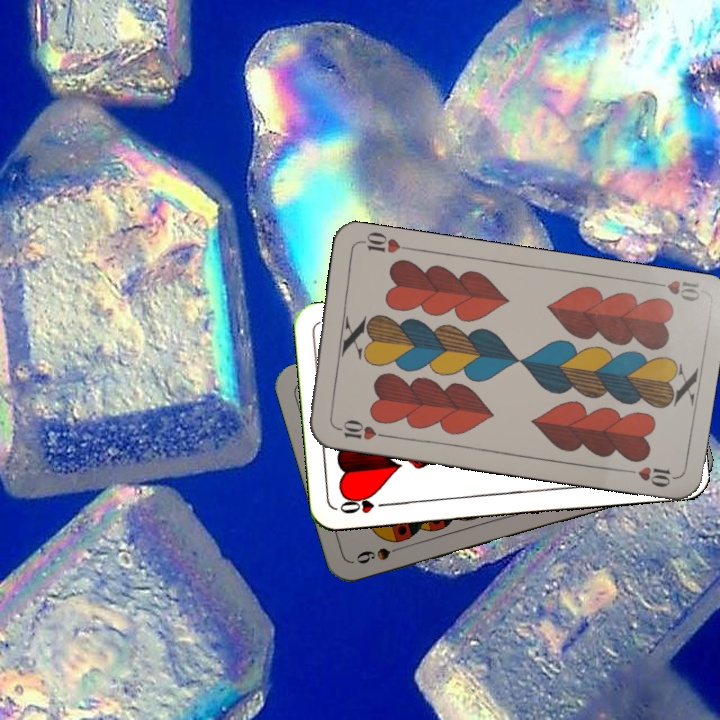H10: (645, 276, 703, 304), (331, 416, 390, 443)
HO: (335, 491, 394, 517)
S9: (352, 542, 409, 567)
